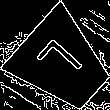L_SE: (34, 36, 92, 92)
